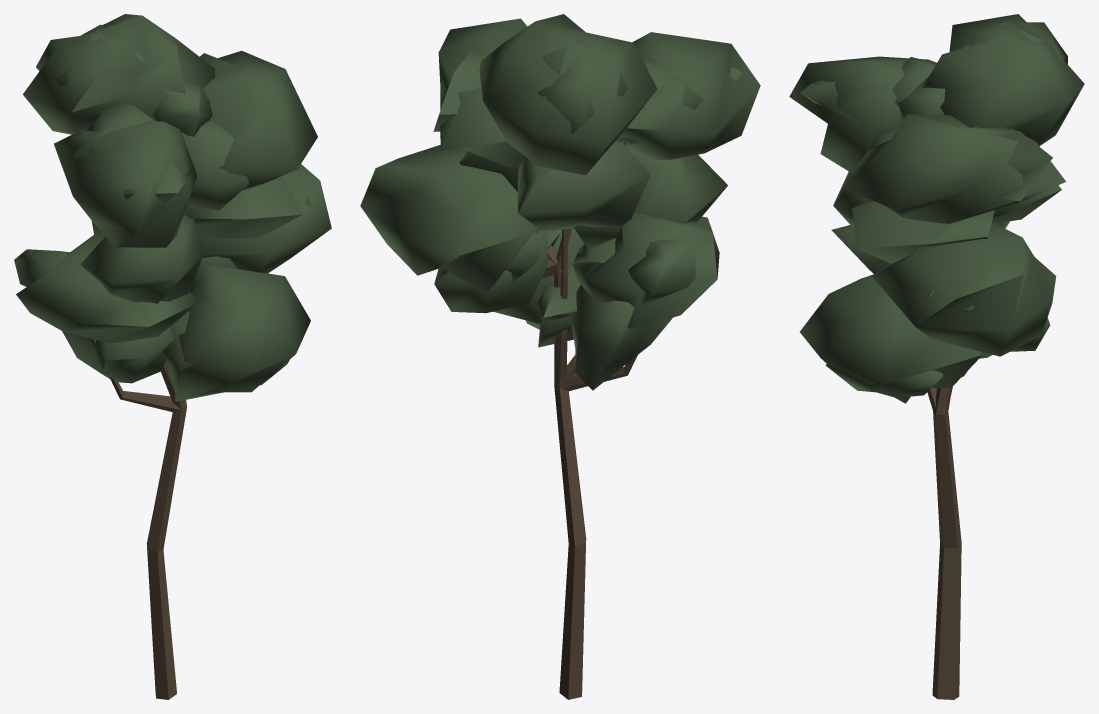
3 views of the same model, side by side, from view 1: azimuth 30°, elevation 25°; view 2: azimuth 150°, elevation 25°; view 3: azimuth 270°, elevation 25° (orthographic). The views are drawn at different scales.
Visible parts, largest first — view 1: Сосна; view 2: Сосна; view 3: Сосна.
Boxes of the visible parts, x1,y1,x2,y2 form: Сосна: (14,14,331,699); Сосна: (360,14,760,699); Сосна: (789,14,1084,699).
Bounding box in the file's own units: 13.31 × 26.79 × 10.78.
